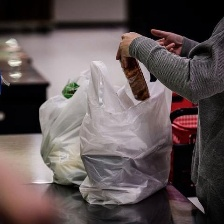plastic_bag: (74, 52, 185, 211), (35, 61, 109, 191)
